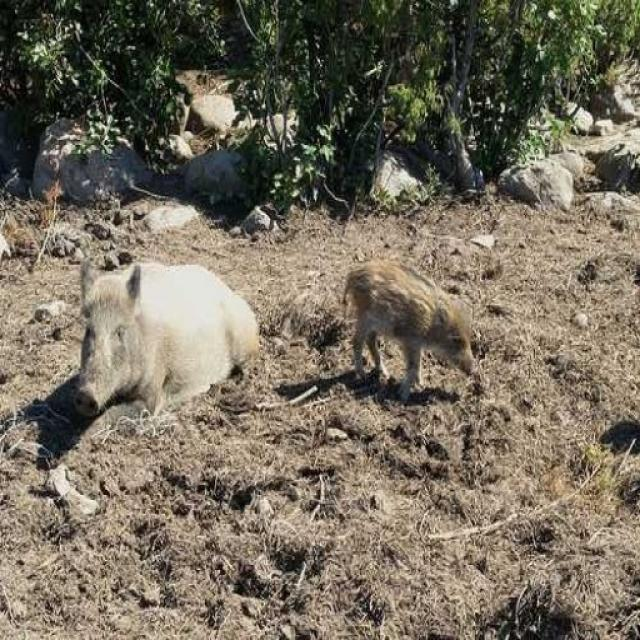pig: (58, 197, 286, 488), (342, 191, 502, 479)
